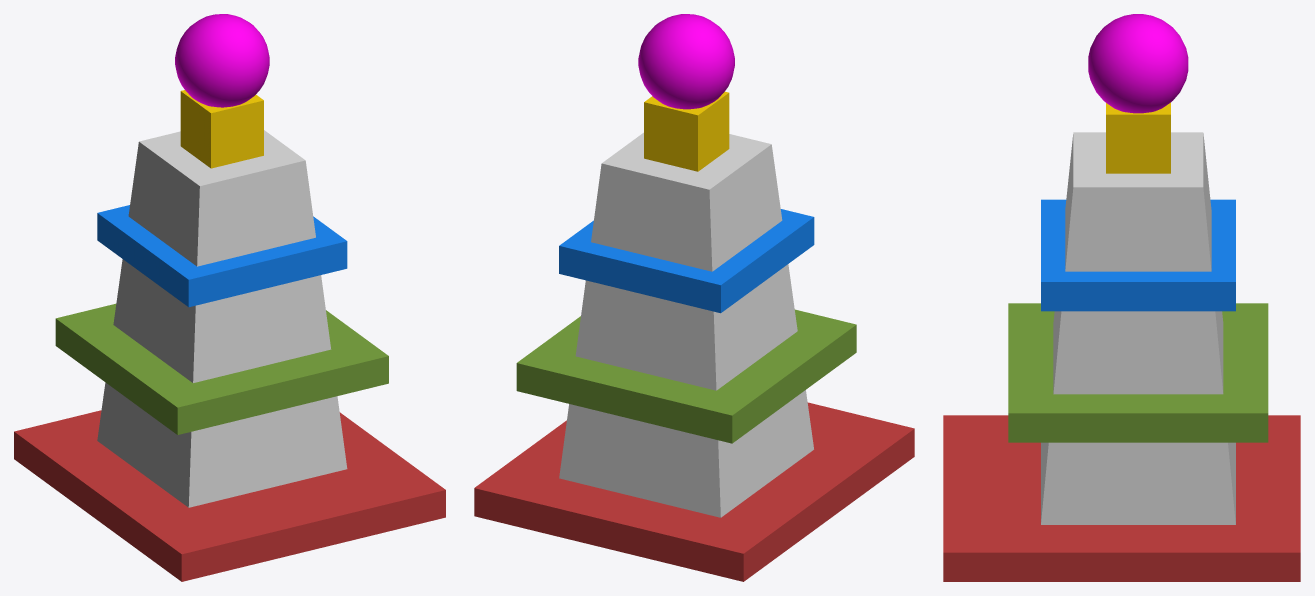
File: sculpture13.fbx
3 renders of one model, left to right at view 1: azimuth 30°, elevation 25°; view 2: azimuth 150°, elevation 25°; view 3: azimuth 270°, elevation 25°, orthographic. The views are drawn at different scales.
Parts seen in each view (by area): view 1: white Mesh (1), red Mesh (1), Foliage green_GIPROXY Mesh (1), blue Mesh (1), pink Mesh (1), yellow Mesh (1); view 2: white Mesh (1), red Mesh (1), Foliage green_GIPROXY Mesh (1), blue Mesh (1), pink Mesh (1), yellow Mesh (1); view 3: white Mesh (1), red Mesh (1), Foliage green_GIPROXY Mesh (1), blue Mesh (1), pink Mesh (1), yellow Mesh (1).
Part boxes in pixels (<box>): white Mesh (1): <box>97,130,347,507</box>; red Mesh (1): <box>14,410,445,581</box>; Foliage green_GIPROXY Mesh (1): <box>55,303,388,434</box>; blue Mesh (1): <box>97,205,347,307</box>; pink Mesh (1): <box>175,14,269,107</box>; yellow Mesh (1): <box>180,90,263,168</box>; white Mesh (1): <box>559,132,813,517</box>; red Mesh (1): <box>474,402,914,581</box>; Foliage green_GIPROXY Mesh (1): <box>516,309,856,443</box>; blue Mesh (1): <box>559,209,814,313</box>; pink Mesh (1): <box>638,14,734,109</box>; yellow Mesh (1): <box>644,91,729,171</box>; white Mesh (1): <box>1041,132,1235,524</box>; red Mesh (1): <box>943,415,1300,581</box>; Foliage green_GIPROXY Mesh (1): <box>1008,303,1268,442</box>; blue Mesh (1): <box>1041,199,1235,311</box>; pink Mesh (1): <box>1088,14,1188,113</box>; yellow Mesh (1): <box>1106,102,1170,173</box>.
Bounding box in the file's own units: 2.5 × 4.2 × 2.75.
